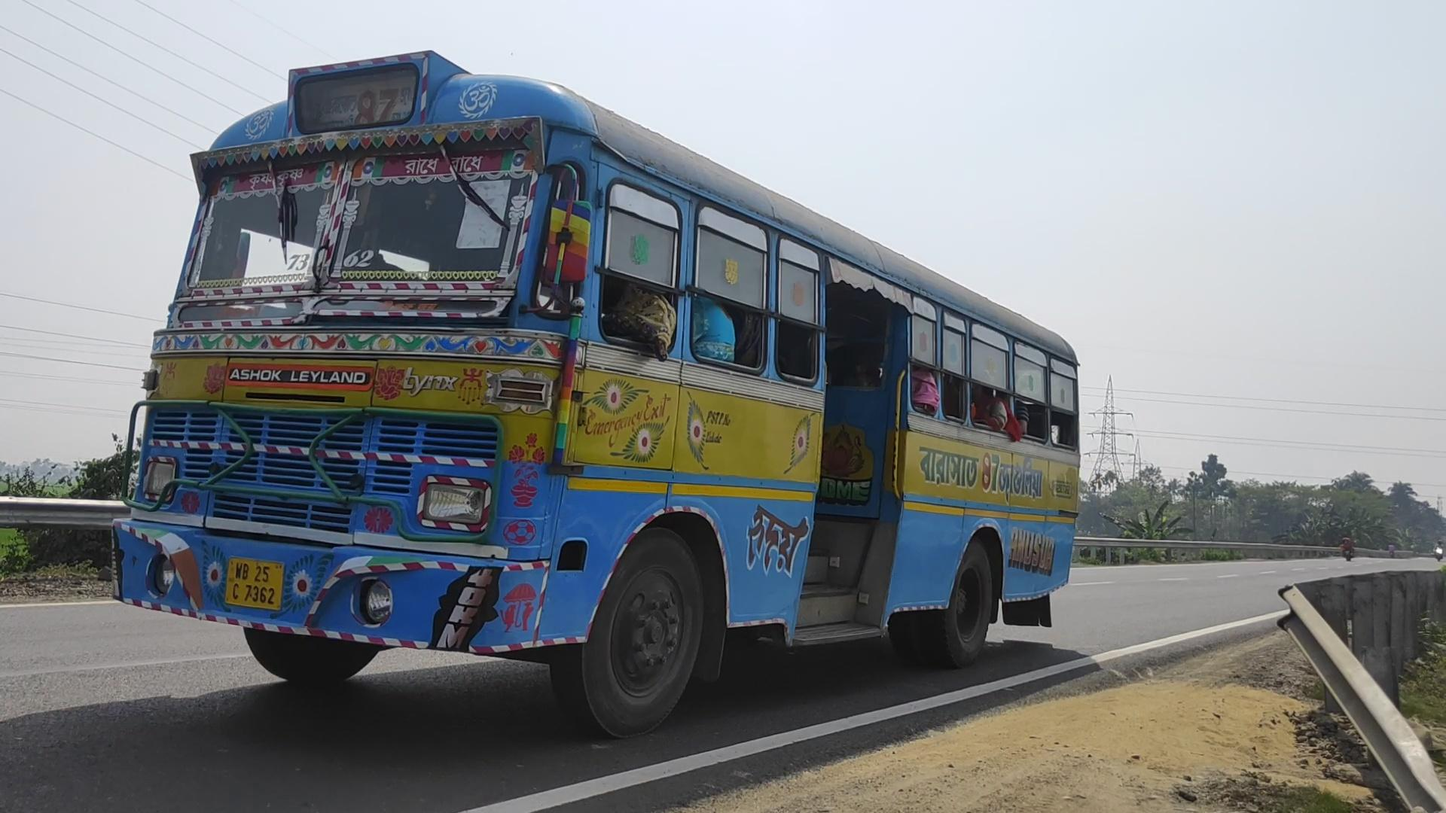Bus: (110, 50, 1081, 740)
